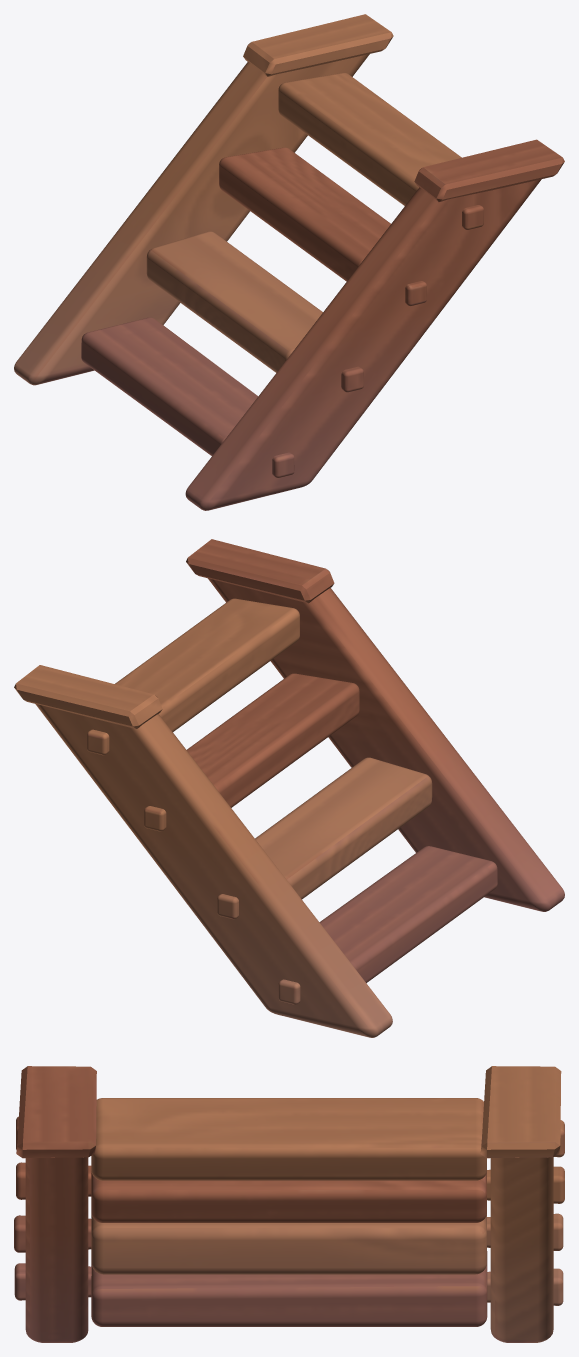
The model's file is stairs_start_2x1.fbx.
3 renders of one model, top to bottom at view 1: azimuth 30°, elevation 25°; view 2: azimuth 150°, elevation 25°; view 3: azimuth 270°, elevation 25°, orthographic. The views are drawn at different scales.
Parts seen in each view (by area): view 1: stairs_start_2x1; view 2: stairs_start_2x1; view 3: stairs_start_2x1.
Part boxes in pixels (<box>): stairs_start_2x1: <box>14,14,564,510</box>; stairs_start_2x1: <box>14,539,564,1037</box>; stairs_start_2x1: <box>14,1066,564,1342</box>.
Bounding box in the file's own units: 1.44 × 1.04 × 1.41.
